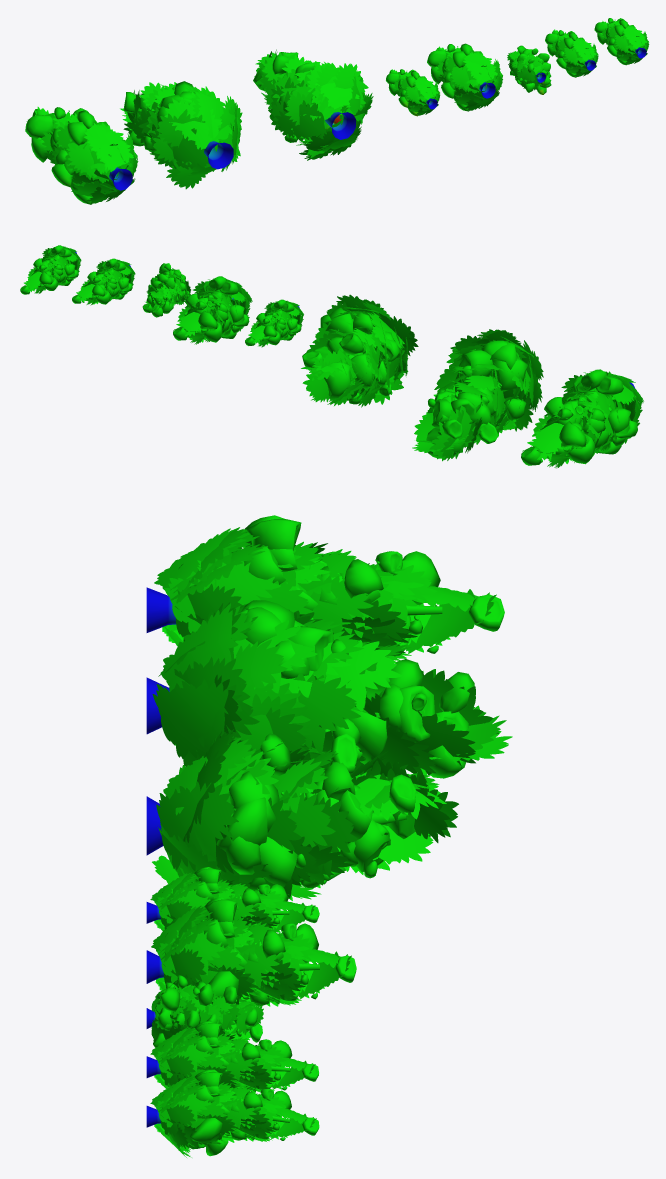
File: Trees.fbx
3 renders of one model, top to bottom at view 1: azimuth 30°, elevation 25°; view 2: azimuth 150°, elevation 25°; view 3: azimuth 270°, elevation 25°, orthographic. The views are drawn at different scales.
Parts seen in each view (by area): view 1: Tree 7, Tree 4, Tree 6, Tree 2, Tree 3, Tree 5, Tree 8, Tree 1; view 2: Tree 7, Tree 4, Tree 6, Tree 2, Tree 5, Tree 8, Tree 3, Tree 1; view 3: Tree 7, Tree 4, Tree 6, Tree 2, Tree 8, Tree 5, Tree 3, Tree 1.
Boxes of the visible parts, left/top/right/bottom form: Tree 7: left=120, top=81, right=242, bottom=189; Tree 4: left=253, top=49, right=373, bottom=160; Tree 6: left=25, top=107, right=138, bottom=204; Tree 2: left=427, top=43, right=502, bottom=111; Tree 3: left=386, top=69, right=440, bottom=116; Tree 5: left=545, top=29, right=598, bottom=77; Tree 8: left=594, top=18, right=649, bottom=65; Tree 1: left=507, top=45, right=551, bottom=94; Tree 7: left=412, top=329, right=543, bottom=461; Tree 4: left=301, top=294, right=418, bottom=407; Tree 6: left=521, top=369, right=643, bottom=468; Tree 2: left=173, top=276, right=252, bottom=344; Tree 5: left=72, top=258, right=135, bottom=305; Tree 8: left=20, top=245, right=81, bottom=294; Tree 3: left=245, top=299, right=303, bottom=347; Tree 1: left=142, top=263, right=190, bottom=317; Tree 7: left=146, top=600, right=512, bottom=778; Tree 4: left=146, top=728, right=458, bottom=900; Tree 6: left=146, top=515, right=504, bottom=660; Tree 2: left=146, top=897, right=356, bottom=1006; Tree 8: left=146, top=1070, right=319, bottom=1157; Tree 5: left=146, top=1021, right=318, bottom=1093; Tree 3: left=146, top=867, right=319, bottom=932; Tree 1: left=146, top=975, right=263, bottom=1047.
Bounding box in the file's own units: 60.69 × 11.71 × 16.87.
